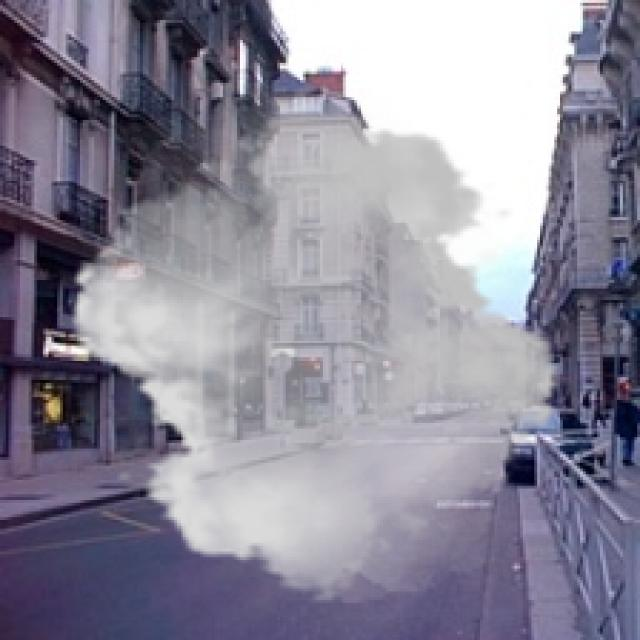smoke: (52, 86, 577, 603)
